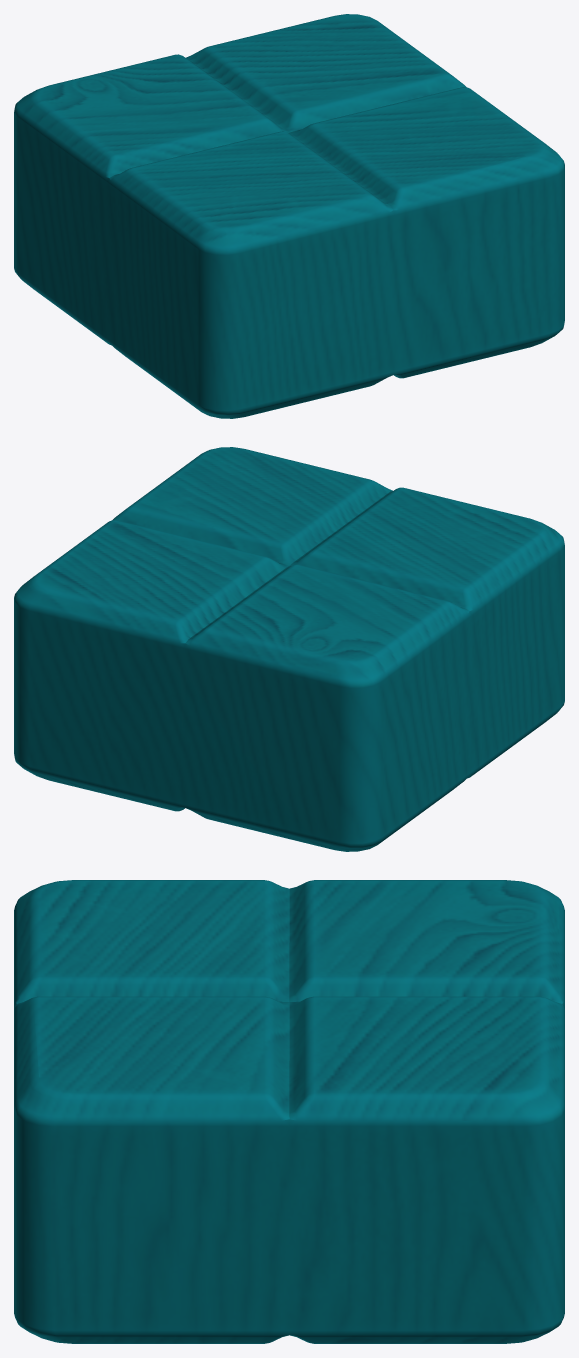
The model's file is Block_04.fbx.
The picture shows the model from 3 angles, top to bottom: view 1: azimuth 30°, elevation 25°; view 2: azimuth 150°, elevation 25°; view 3: azimuth 270°, elevation 25°; orthographic projection. The views are drawn at different scales.
Parts seen in each view (by area): view 1: Block_04; view 2: Block_04; view 3: Block_04.
Boxes of the visible parts, x1,y1,x2,y2 form: Block_04: [14, 14, 564, 418]; Block_04: [14, 447, 564, 851]; Block_04: [14, 880, 564, 1343].
Size of the model in its own units: 2 by 1 by 2.
1 material, 1 textured.
